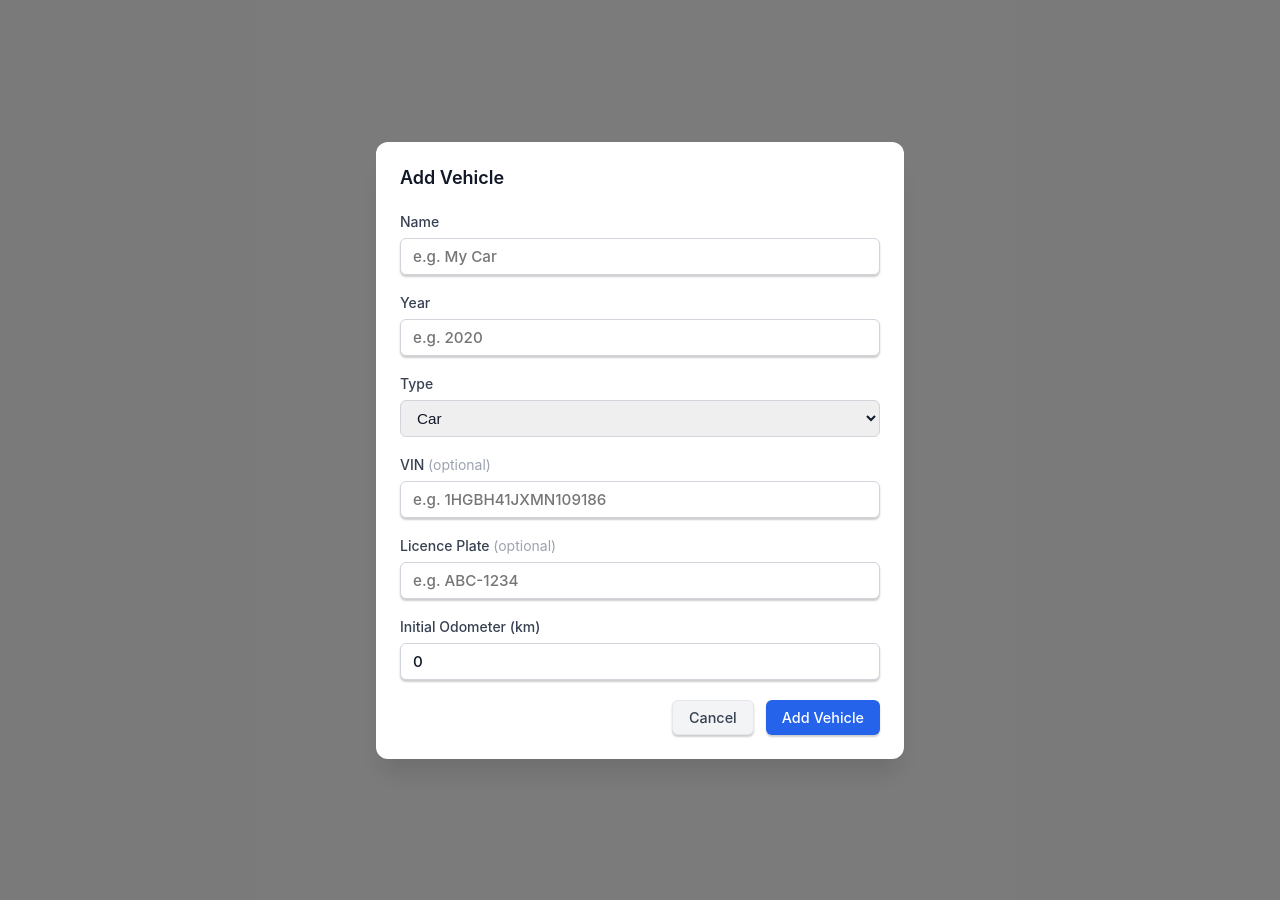
it: AddEditVehicle – add mode › shows year error when year is out of range
In the field with test id "input-year": [640, 337] box [400,318,880,356], type "1800"
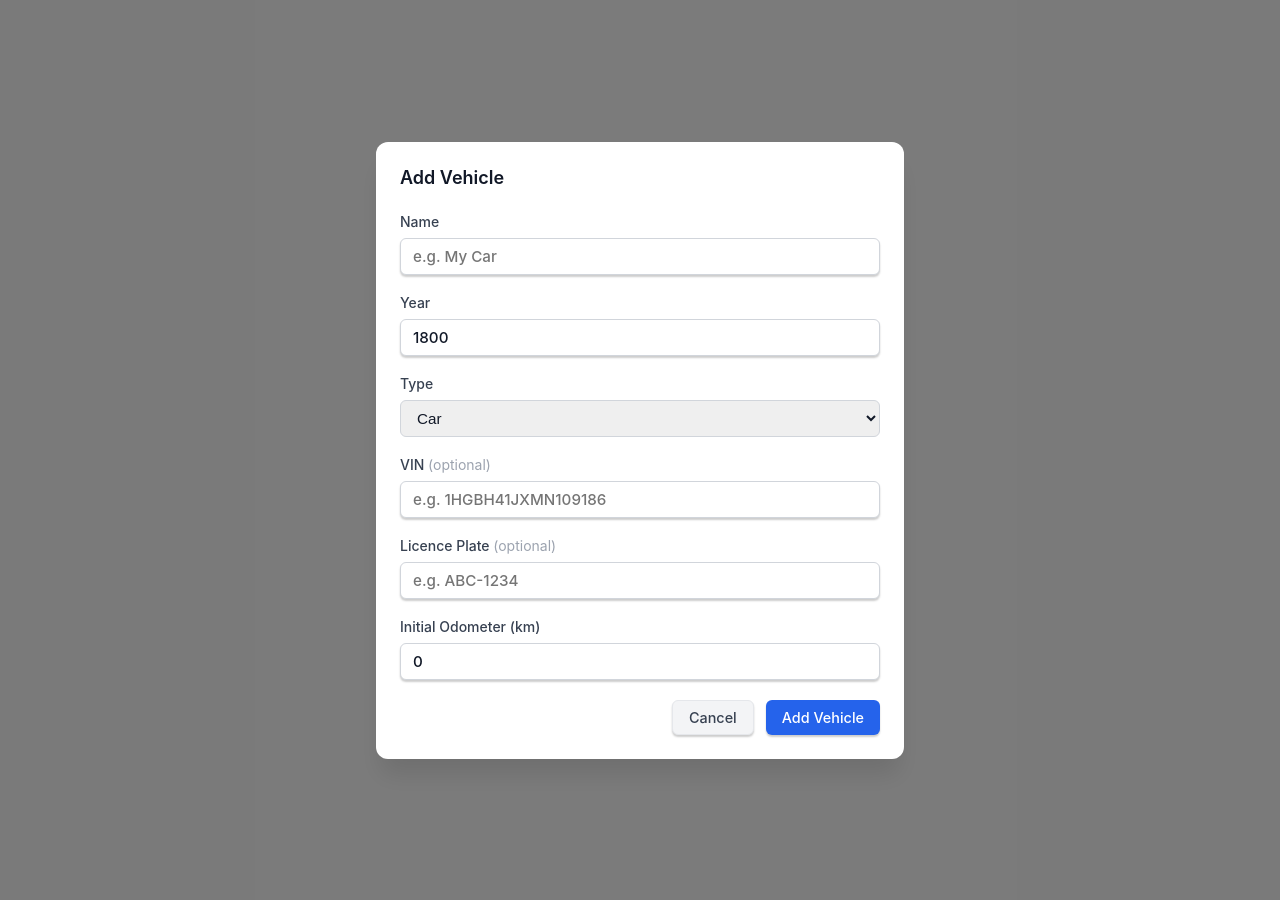
Click the button with test id "btn-submit": [823, 717] box [766,700,880,734]
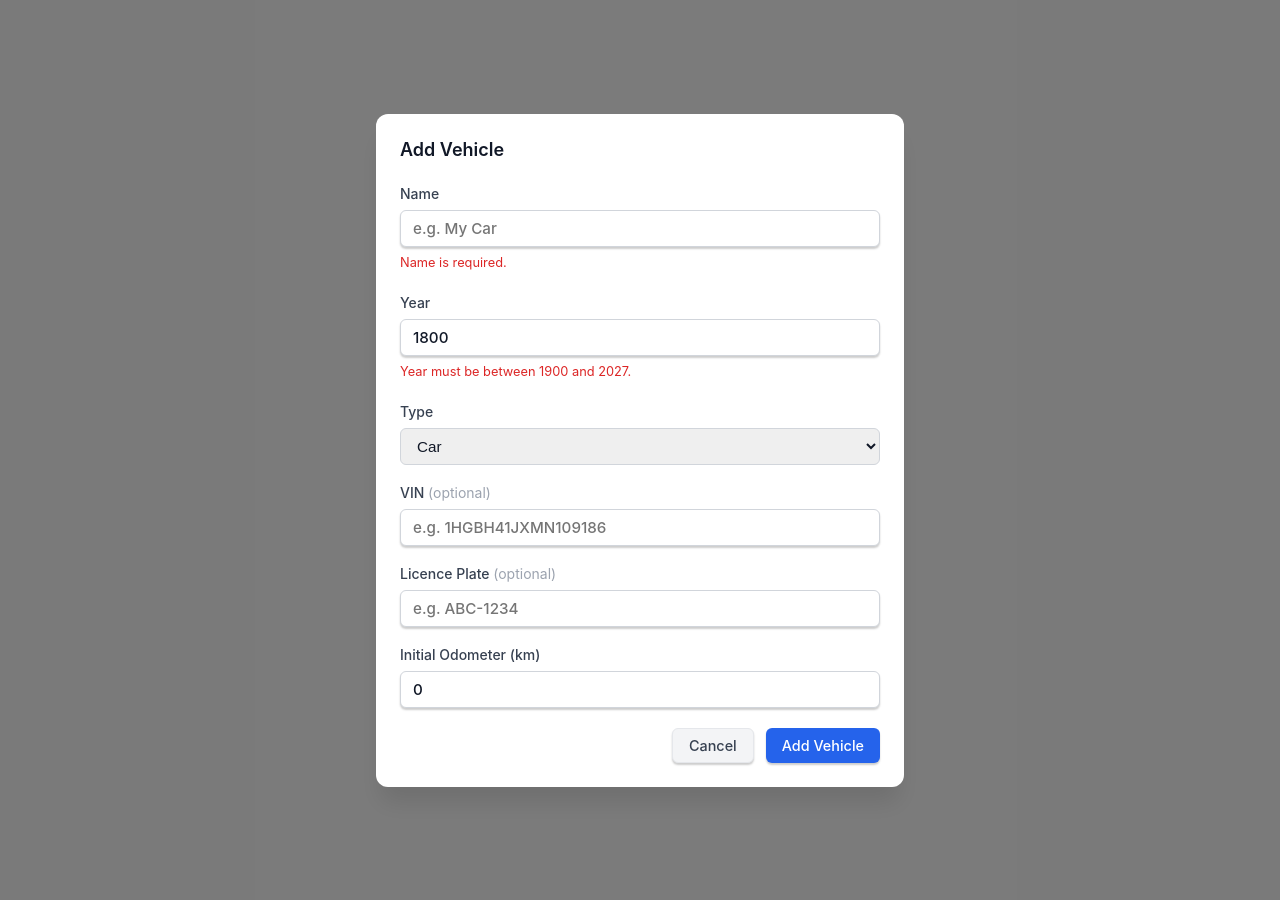
Expected: the text "Year must be between 1900 and 2027." is shown, [400,364,631,378]
